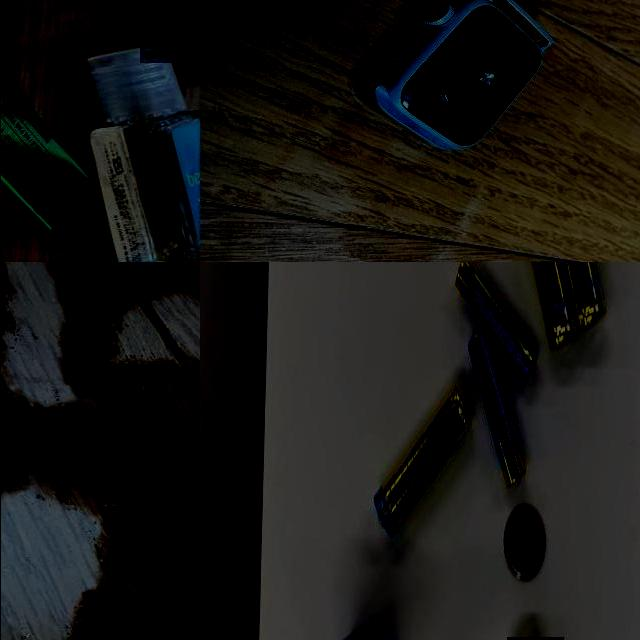9V: (0, 48, 87, 238), (139, 0, 199, 63)
